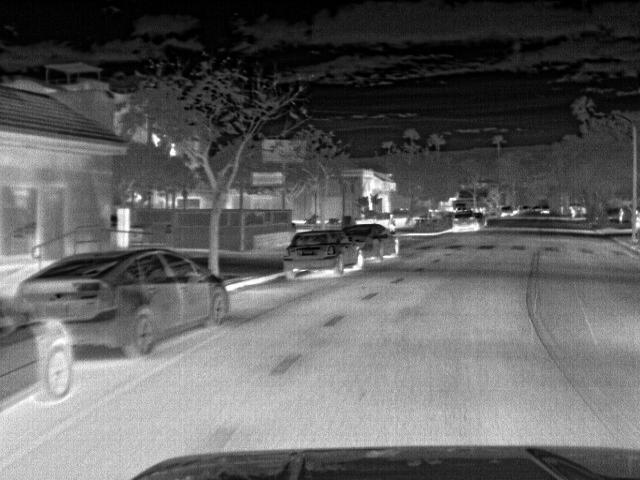car: (10, 249, 234, 362), (1, 294, 72, 416), (285, 229, 367, 281), (340, 222, 402, 260), (451, 210, 482, 232), (498, 204, 517, 218), (537, 204, 552, 214)
person: (616, 207, 626, 225)
